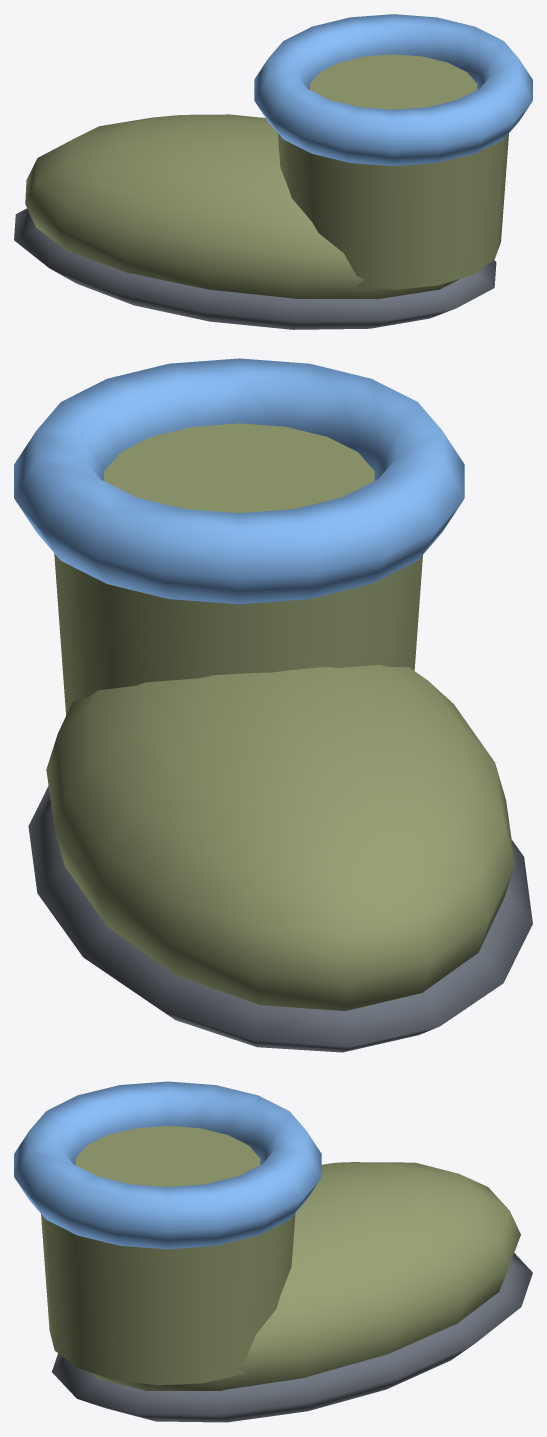
Rendered from army_boots_blue.fbx.
The picture shows the model from 3 angles, top to bottom: view 1: azimuth 30°, elevation 25°; view 2: azimuth 150°, elevation 25°; view 3: azimuth 270°, elevation 25°; orthographic projection. The views are drawn at different scales.
Visible parts, largest first — view 1: army_boots_blue; view 2: army_boots_blue; view 3: army_boots_blue.
Part boxes in pixels (<box>): army_boots_blue: <box>14,14,532,329</box>; army_boots_blue: <box>14,358,532,1052</box>; army_boots_blue: <box>14,1081,532,1422</box>.
Size of the model in its own units: 0.7679 by 0.4783 by 0.8303.
